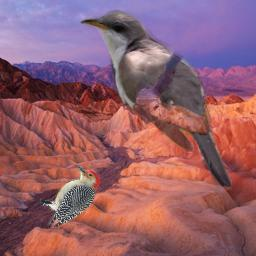Cuckoo: (77, 7, 232, 193)
Woodpecker: (38, 166, 100, 228)
